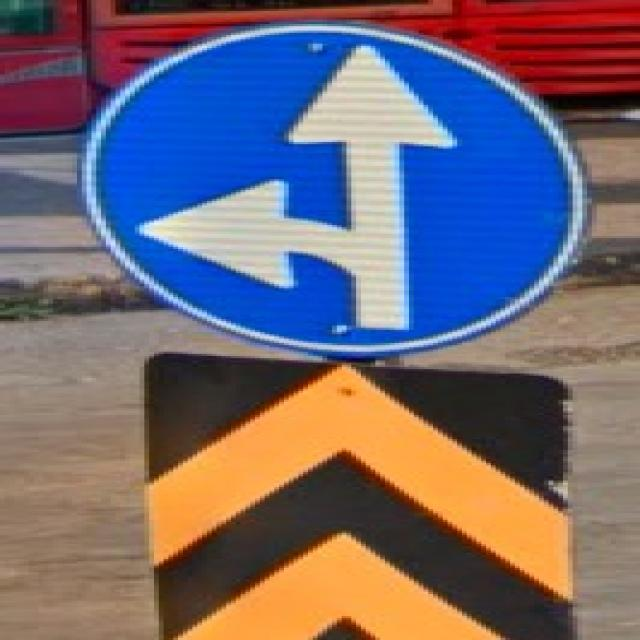Straight or Left: (83, 26, 583, 360)
